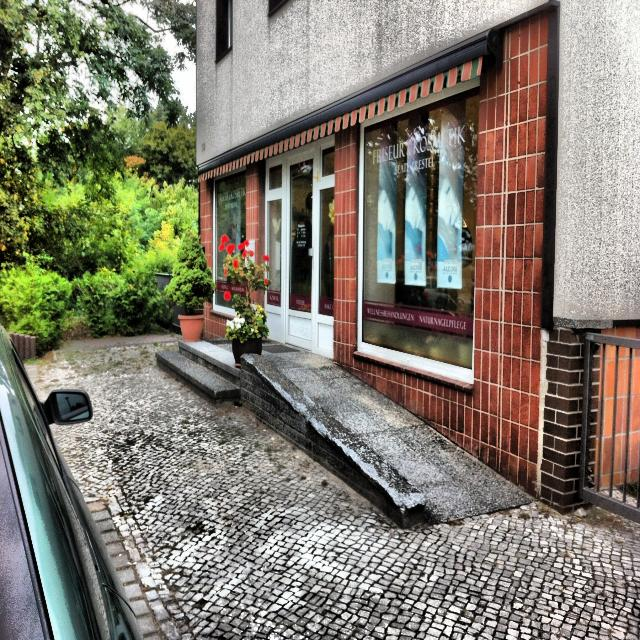escada: (155, 341, 238, 406)
